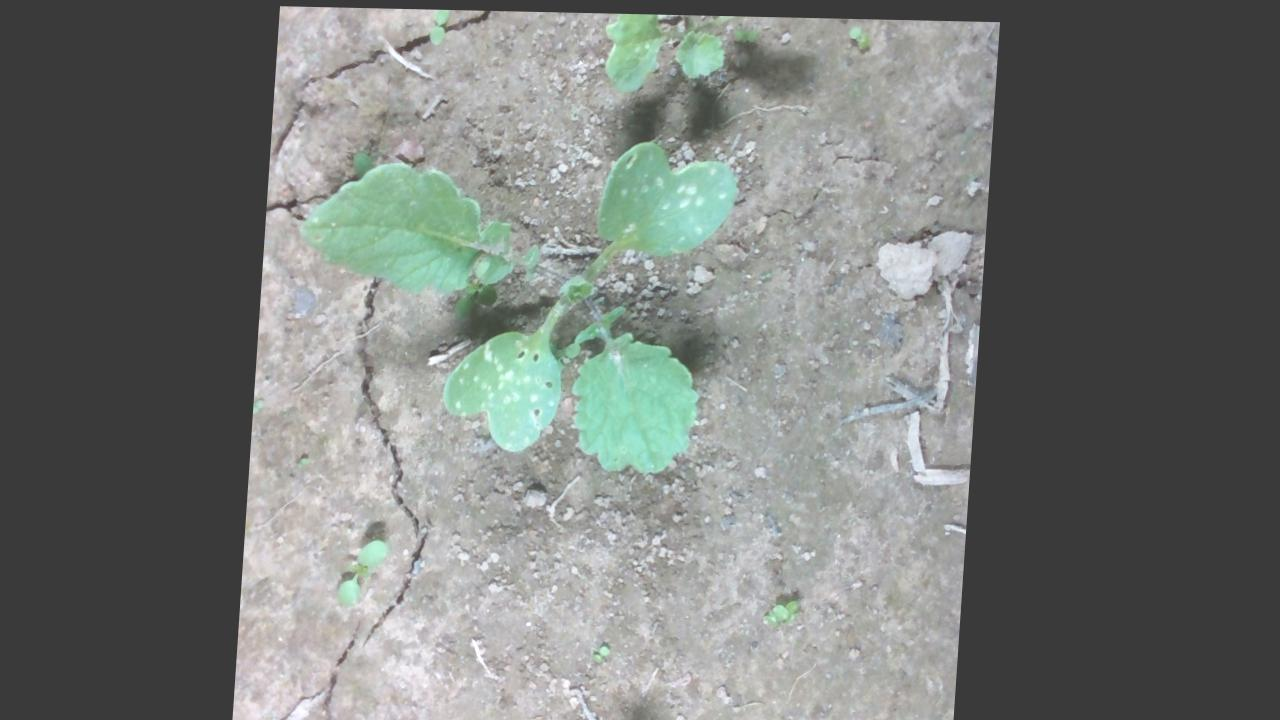weed: (335, 541, 416, 611), (765, 595, 812, 636), (423, 7, 455, 48), (842, 27, 871, 50)
